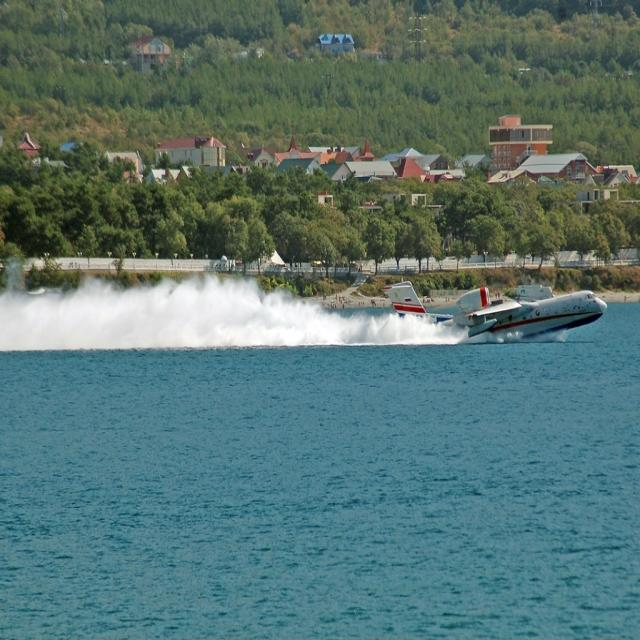MIL_Plane: (391, 277, 595, 341)
